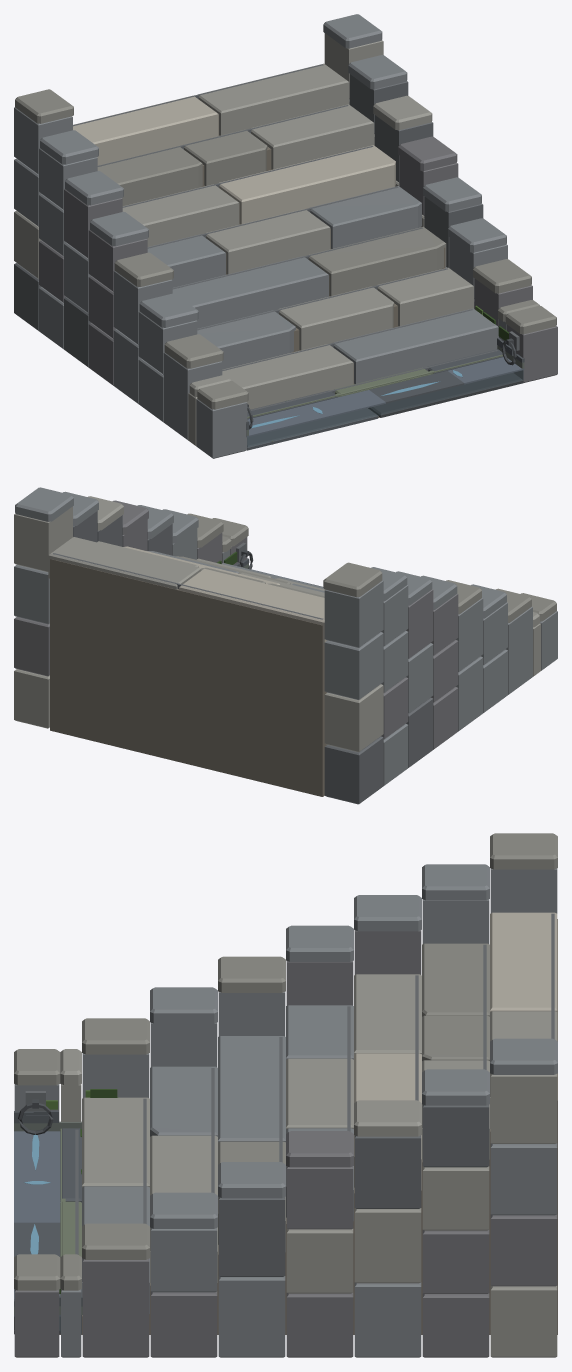
Rendered from SM_LPD_Struct_WaterSteps_01.fbx.
3 views of the same model, one above another, from view 1: azimuth 30°, elevation 25°; view 2: azimuth 150°, elevation 25°; view 3: azimuth 270°, elevation 25° (orthographic). The views are drawn at different scales.
Visible parts, largest first — view 1: SM_LPD_Struct_WaterSteps_01; view 2: SM_LPD_Struct_WaterSteps_01; view 3: SM_LPD_Struct_WaterSteps_01.
Boxes of the visible parts, left/top/right/bottom form: SM_LPD_Struct_WaterSteps_01: left=14, top=14, right=557, bottom=458; SM_LPD_Struct_WaterSteps_01: left=14, top=487, right=557, bottom=804; SM_LPD_Struct_WaterSteps_01: left=14, top=833, right=557, bottom=1357.
Size of the model in its own units: 4 by 2.41 by 4.
